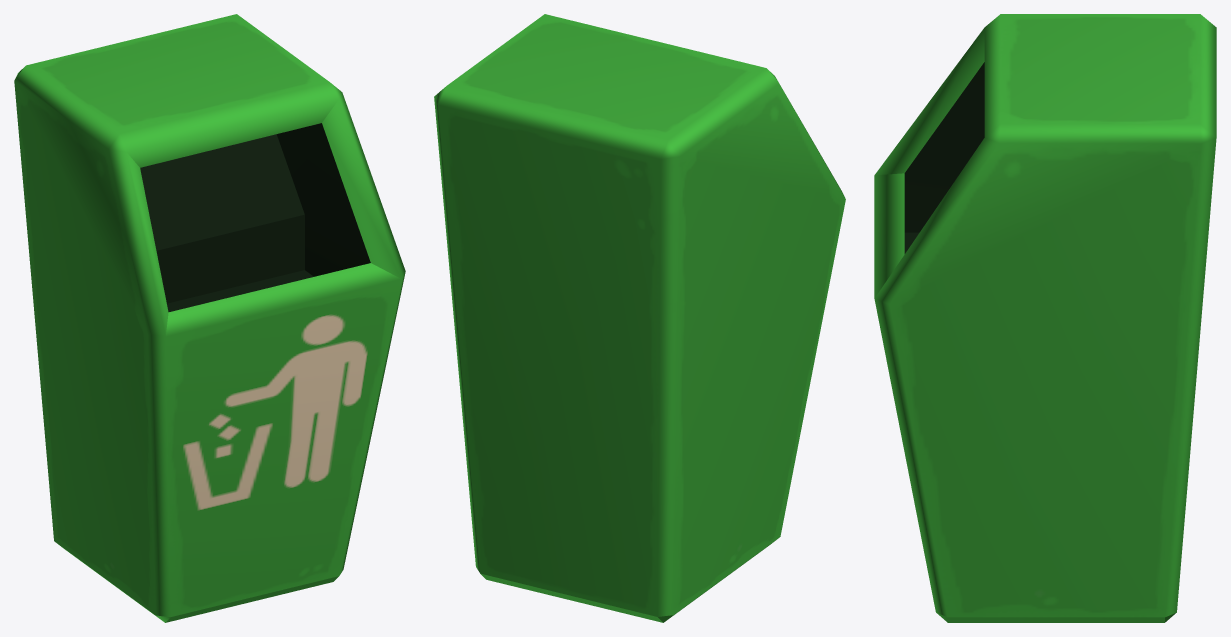
Rendered from poubelle.fbx.
3 renders of one model, left to right at view 1: azimuth 30°, elevation 25°; view 2: azimuth 150°, elevation 25°; view 3: azimuth 270°, elevation 25°, orthographic. The views are drawn at different scales.
Parts seen in each view (by area): view 1: poubelle; view 2: poubelle; view 3: poubelle.
Part boxes in pixels (box(x1,y1,x2,y2)): poubelle: box(14, 14, 405, 622); poubelle: box(434, 14, 845, 622); poubelle: box(874, 14, 1216, 622).
Size of the model in its own units: 0.4077 by 0.7189 by 0.437.
